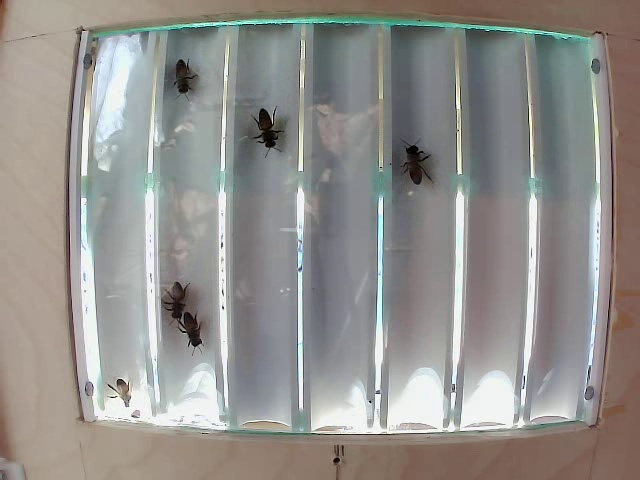bee: (247, 89, 283, 156), (392, 135, 432, 194), (160, 49, 200, 104), (157, 275, 195, 318), (175, 303, 209, 347)
